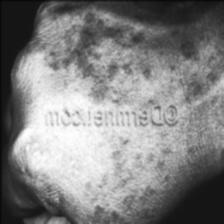Unclassified: (36, 126, 177, 220), (43, 26, 210, 102), (186, 44, 224, 141)
